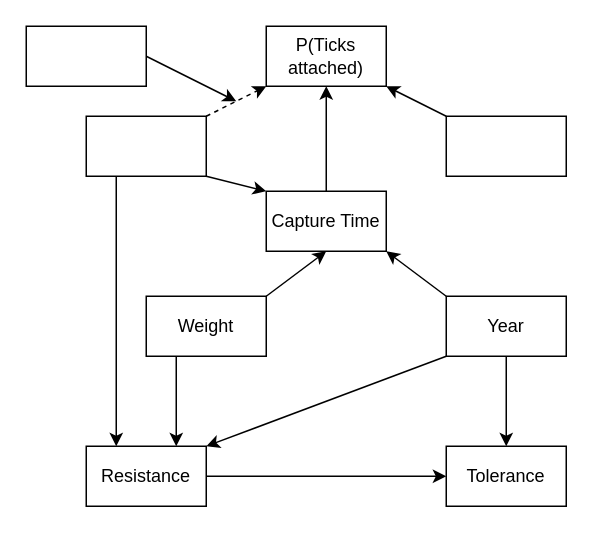
The diagram is 593 pixels wide and 533 high, and some of its shapes have lost their labels. Here are the shapes that lost their labels. From the top down, the centre of each, then its label:
At point 85,55: "Maturity".
At point 145,145: "Sex".
At point 505,145: "Climate".
